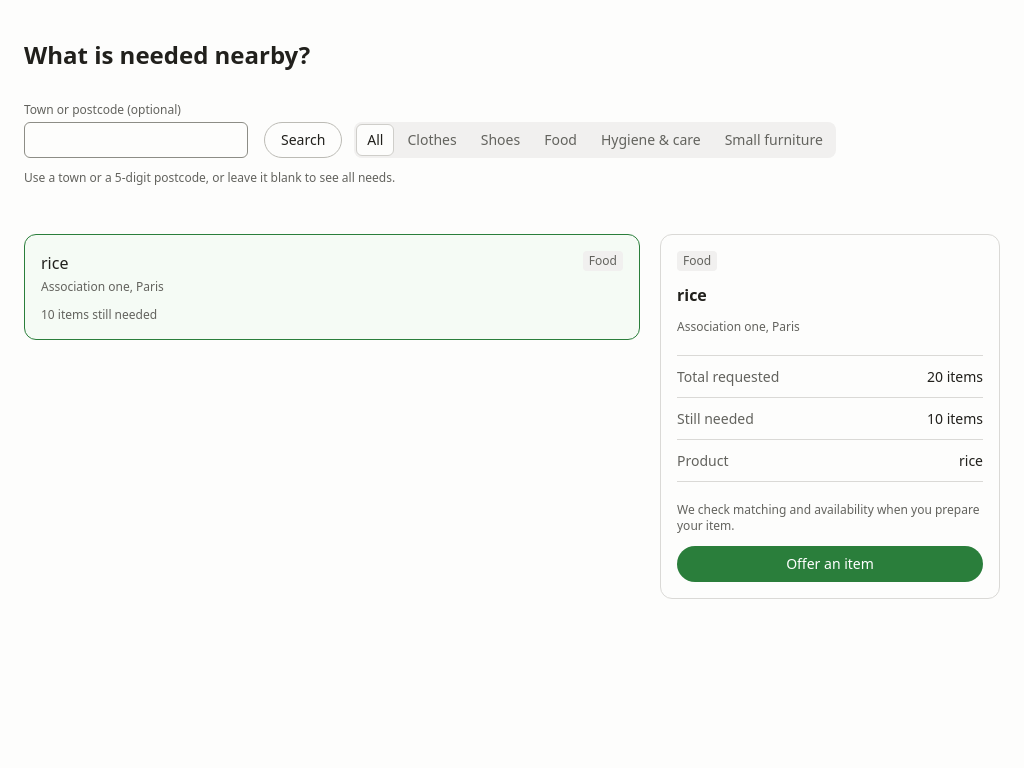
Test: recovers after correcting the location and preserves the category
Click the button "Clothes" at point(432, 140), box [396, 124, 468, 156]
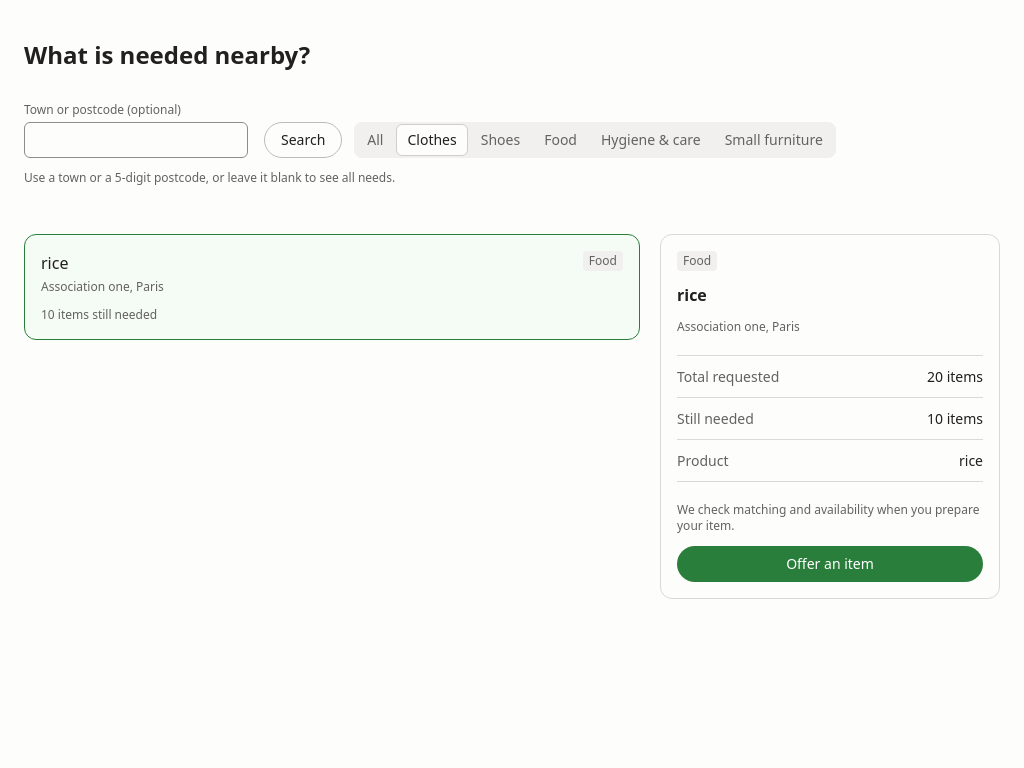
Type "68" into the field named "location" at point(136, 140), box [24, 122, 248, 158]
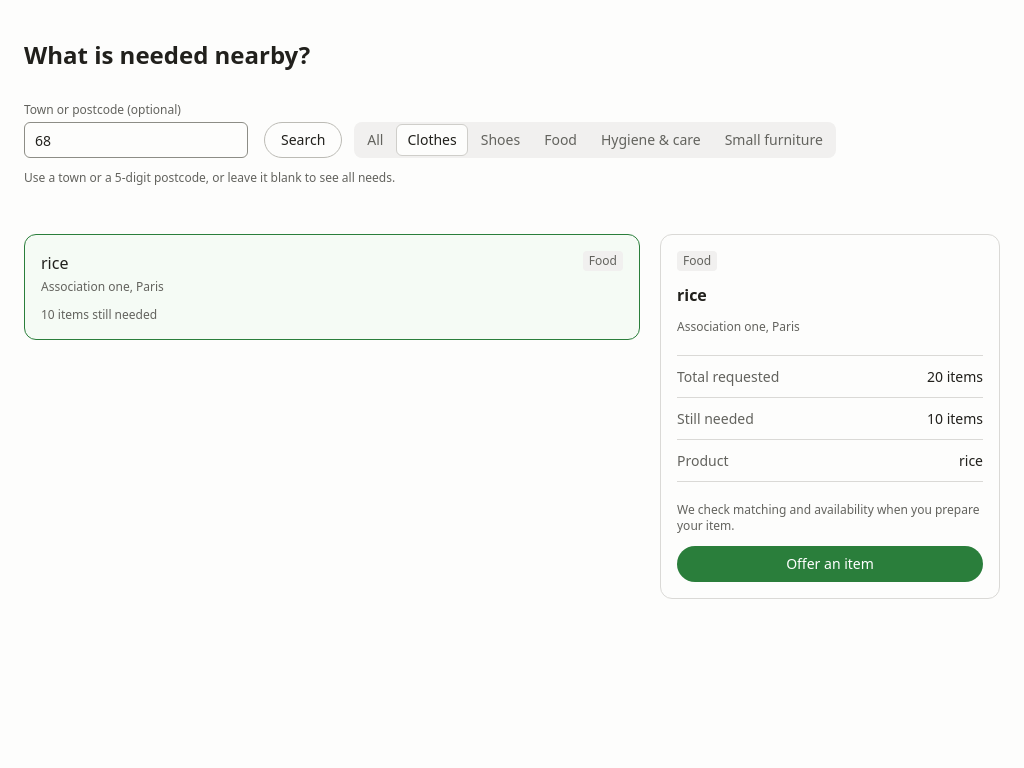
Submit the form, box [24, 102, 342, 158]
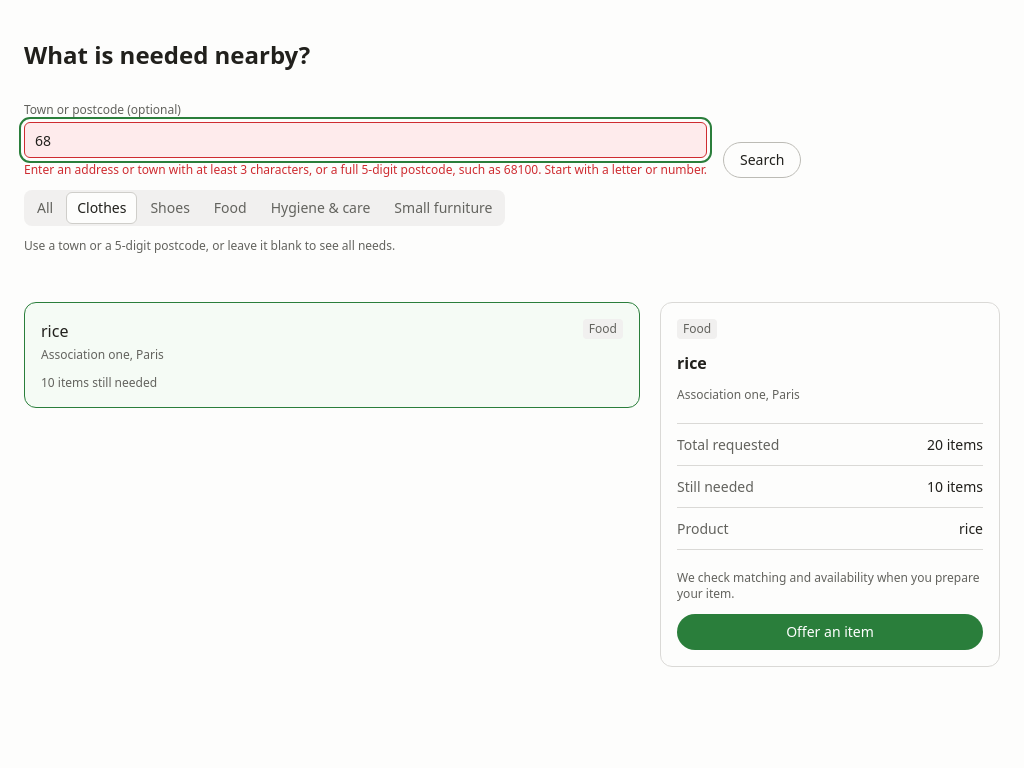
Expected: the field named "location" is marked as invalid
Replace the text in the field named "location" with "68100" at point(366, 140), box [24, 122, 707, 158]
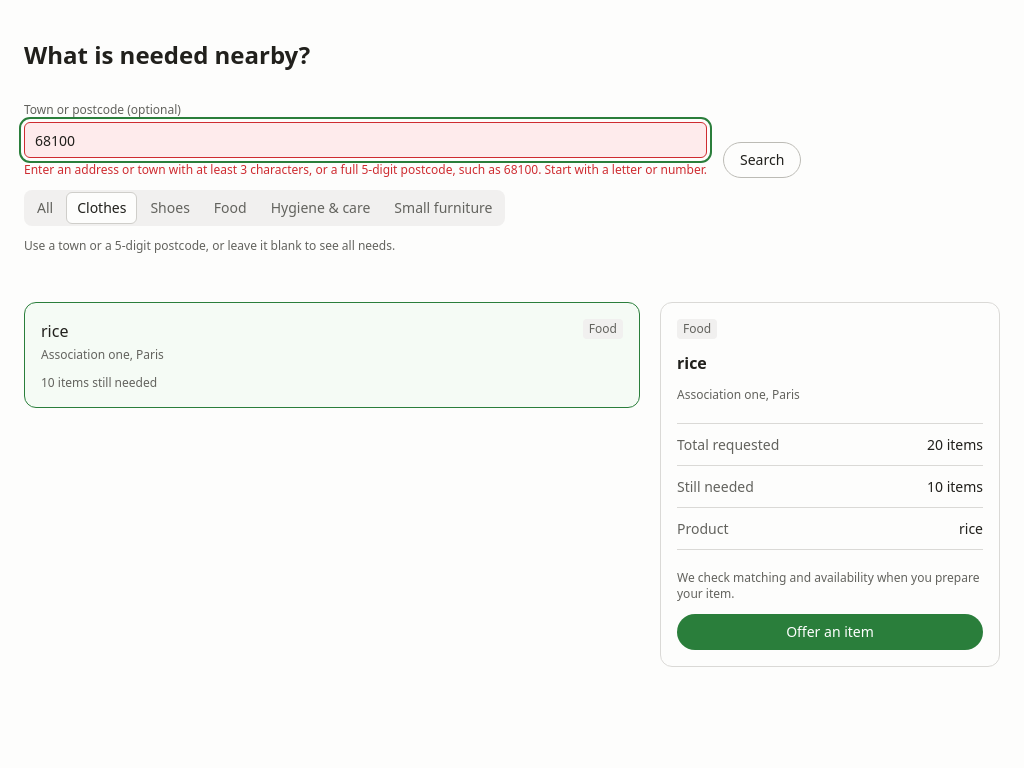
Submit the form, box [24, 102, 801, 178]
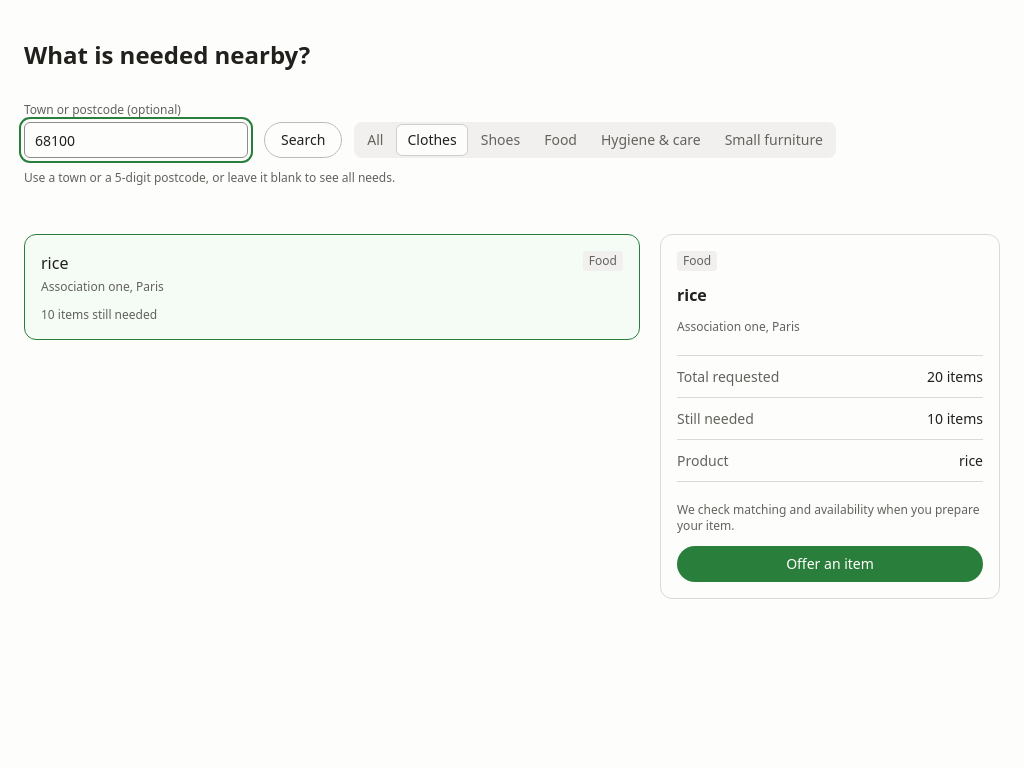
Expected: the text with class "field-error" is gone
